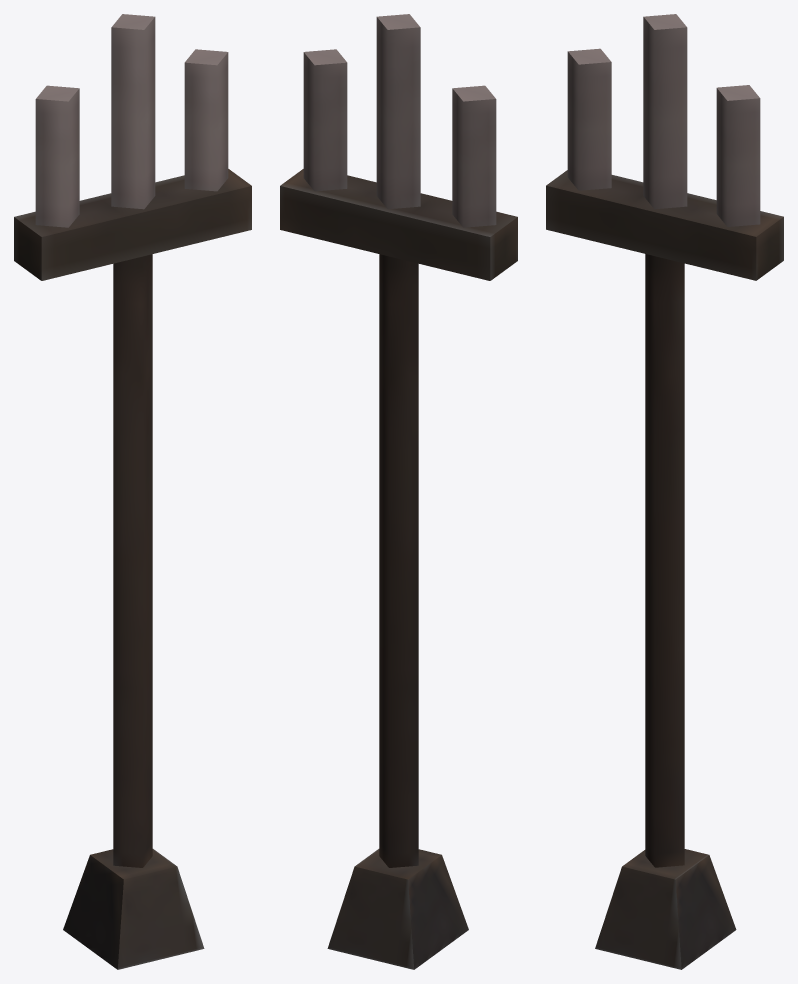
File: guchengqishituan_BOSS_A_11.FBX
3 renders of one model, left to right at view 1: azimuth 30°, elevation 25°; view 2: azimuth 150°, elevation 25°; view 3: azimuth 330°, elevation 25°, orthographic.
Parts seen in each view (by area): view 1: guchengqishituan_BOSS_A_11; view 2: guchengqishituan_BOSS_A_11; view 3: guchengqishituan_BOSS_A_11.
Part boxes in pixels (left/top/right/bottom): guchengqishituan_BOSS_A_11: left=14, top=14, right=251, bottom=969; guchengqishituan_BOSS_A_11: left=280, top=14, right=517, bottom=969; guchengqishituan_BOSS_A_11: left=546, top=14, right=783, bottom=969.
Size of the model in its own units: 82.75 by 345 by 37.35.
